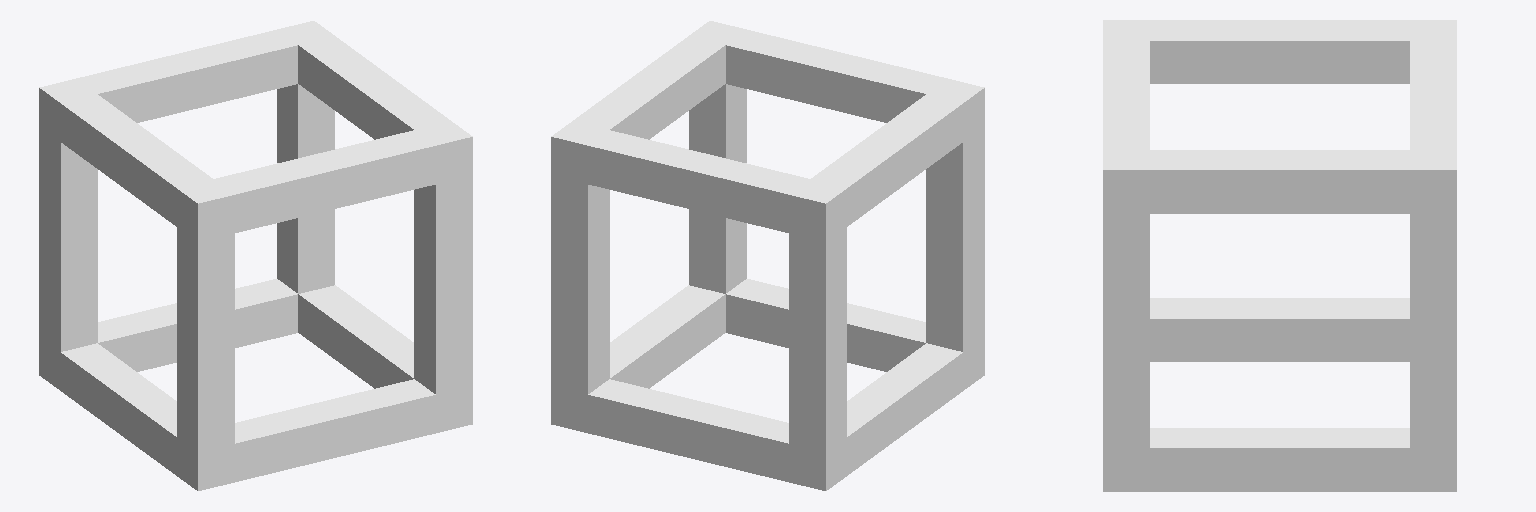
The robot description file, URDF, robot "HollowCube":
<?xml version="1.0" ?>
<robot name="HollowCube">
  <link name="HollowCube">
    <contact>
      <lateral_friction value="1.0"/>
      <rolling_friction value="1.0"/>
      <inertia_scaling value="3.0"/>
      <contact_cdm value="0.0"/>
      <contact_erp value="1.0"/>
    </contact>
    <inertial>
      <origin rpy="0 0 0" xyz="0 0 0"/>
      <mass value="1.0"/>
      <inertia ixx="0" ixy="0" ixz="0" iyy="0" iyz="0" izz="0"/>
    </inertial>
    <visual>
      <origin rpy="0 0 0" xyz="0 0 0"/>
      <geometry>
        <mesh filename="HollowCube_vis.obj" scale="1.0 1.0 1.0"/>
      </geometry>
      <material name="blockmat">
        <color rgba="1.0 1.0 1.0 1.0"/>
      </material>
    </visual>
    <collision>
      <origin rpy="0 0 0" xyz="0 0 0"/>
      <geometry>
        <mesh filename="HollowCube_col.obj" scale="1.0 1.0 1.0"/>
      </geometry>
    </collision>
  </link>
</robot>

--- Facts derived from the render (not from the file) ---
Views: 3 orthographic renders of the robot side by side, from view 1: azimuth 30°, elevation 25°; view 2: azimuth 150°, elevation 25°; view 3: azimuth 270°, elevation 25°.
Model HollowCube with 1 links and 0 joints (none), rooted at HollowCube, posed every joint at zero.
Links seen in each view (by area): view 1: HollowCube; view 2: HollowCube; view 3: HollowCube.
Link boxes in pixels (box(x1,y1,x2,y2)): HollowCube: box(39, 21, 472, 490); HollowCube: box(551, 21, 984, 490); HollowCube: box(1103, 20, 1456, 491).
Bounding box of the posed robot: 0.26 × 0.26 × 0.26 m (x, y, z).
Meshes: 1 distinct files referenced, 1 mesh visuals loaded (1 OBJ).